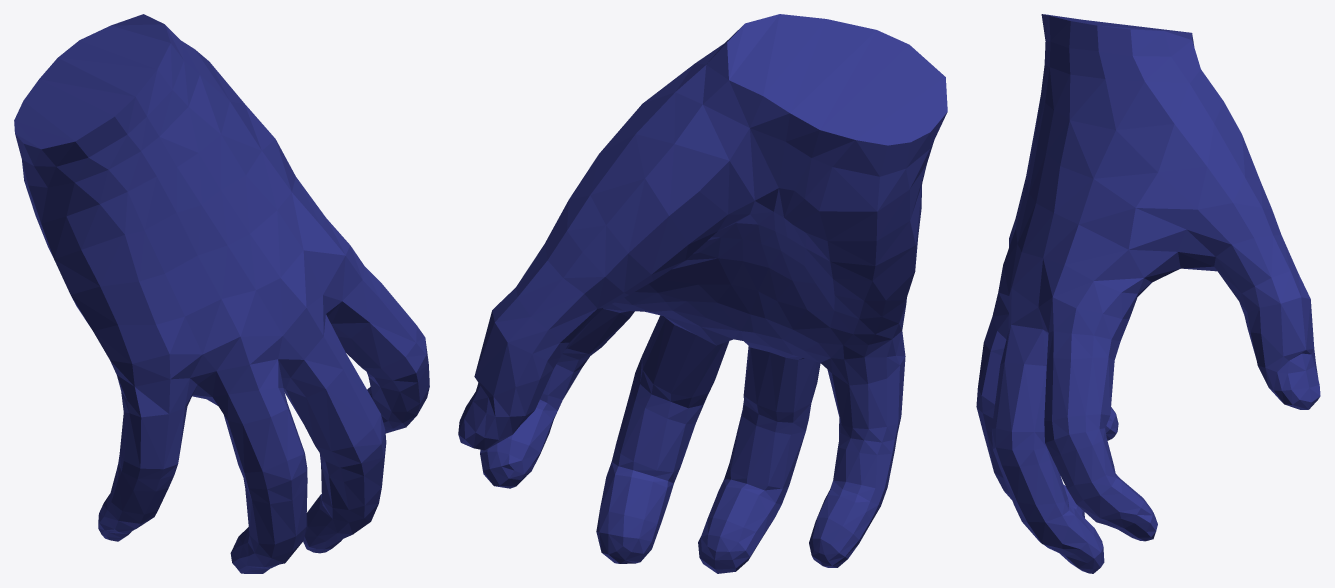
3 renders of one model, left to right at view 1: azimuth 30°, elevation 25°; view 2: azimuth 150°, elevation 25°; view 3: azimuth 270°, elevation 25°, orthographic. The views are drawn at different scales.
Bounding box in the file's own units: 0.131 × 0.1708 × 0.1101.
